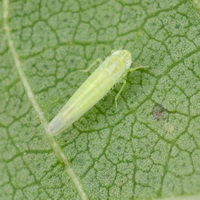insect: (48, 50, 131, 135)
